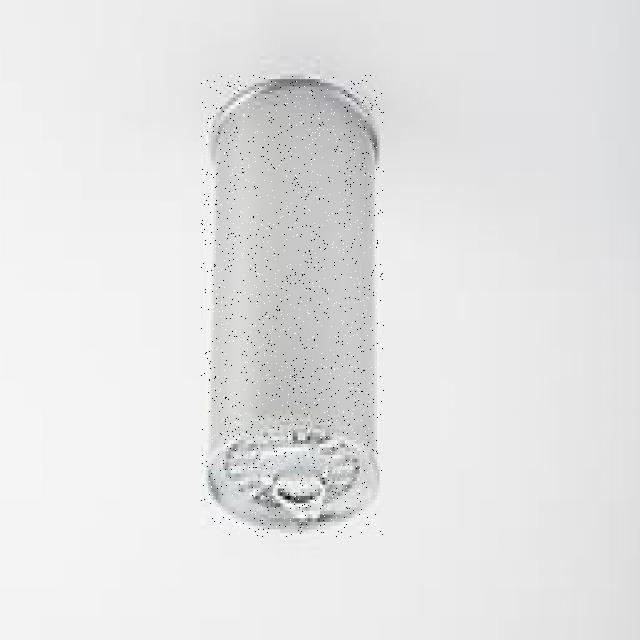metal: (201, 75, 384, 536)
